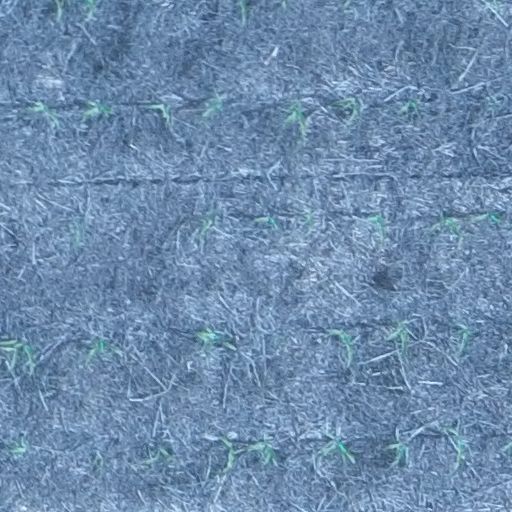planta: (281, 96, 312, 148), (315, 429, 356, 465), (382, 316, 413, 363), (192, 324, 236, 355), (80, 335, 121, 368), (428, 214, 468, 247), (442, 421, 470, 467), (327, 325, 359, 364), (212, 432, 237, 480), (245, 434, 279, 467), (26, 98, 63, 127), (196, 89, 226, 122), (365, 210, 391, 247), (79, 96, 116, 121), (334, 94, 363, 124), (145, 99, 175, 128), (140, 445, 177, 468), (461, 207, 507, 225), (385, 437, 411, 468), (453, 319, 475, 355), (4, 434, 33, 458), (196, 209, 218, 240), (395, 96, 422, 118), (70, 216, 86, 248), (253, 213, 281, 230), (298, 208, 318, 231), (93, 455, 104, 470), (489, 97, 500, 109)
